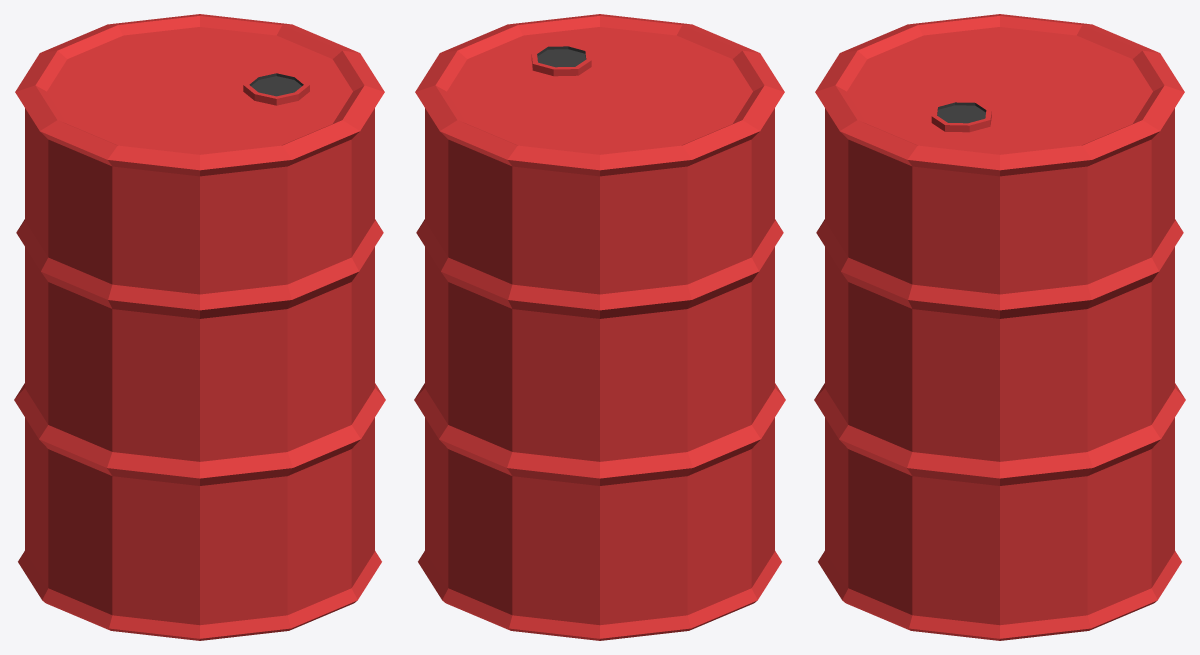
Rendered from drum.glb.
3 renders of one model, left to right at view 1: azimuth 30°, elevation 25°; view 2: azimuth 150°, elevation 25°; view 3: azimuth 270°, elevation 25°, orthographic.
Visible parts, largest first — view 1: Drum; view 2: Drum; view 3: Drum.
Part boxes in pixels (x1,y1,x2,y2): Drum: (14,14,385,640); Drum: (414,14,785,640); Drum: (814,14,1185,640).
Bounding box in the file's own units: 0.6068 × 0.8658 × 0.6068.
Materials: 1 (1 with a texture image).
